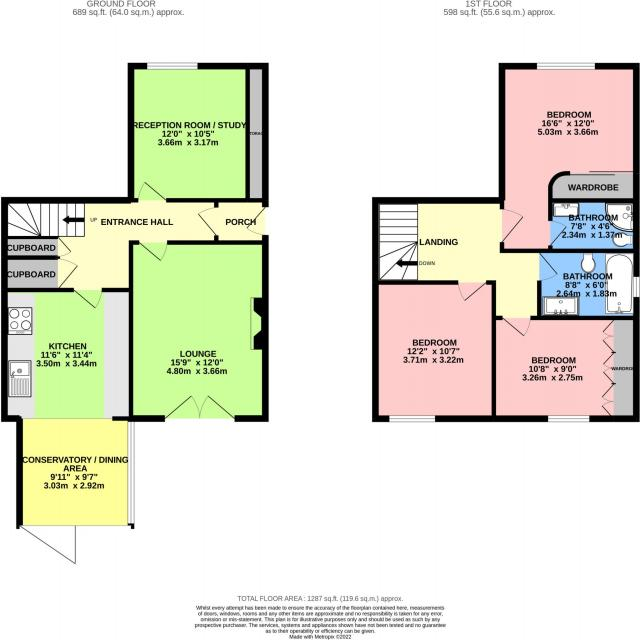DOOR: (500, 206, 526, 247), (455, 280, 493, 304), (244, 203, 269, 238), (195, 205, 219, 241), (498, 315, 534, 339), (135, 239, 170, 263), (70, 288, 104, 311), (136, 179, 167, 203), (548, 217, 570, 248), (537, 252, 558, 283)
ROOM: (0, 175, 269, 315), (2, 287, 134, 526), (499, 62, 640, 254), (127, 240, 268, 421), (127, 62, 269, 203), (372, 280, 496, 422), (492, 316, 640, 421)
WINDOW: (125, 419, 138, 525), (535, 60, 597, 72), (145, 60, 200, 73), (386, 413, 438, 425), (544, 412, 591, 425)
